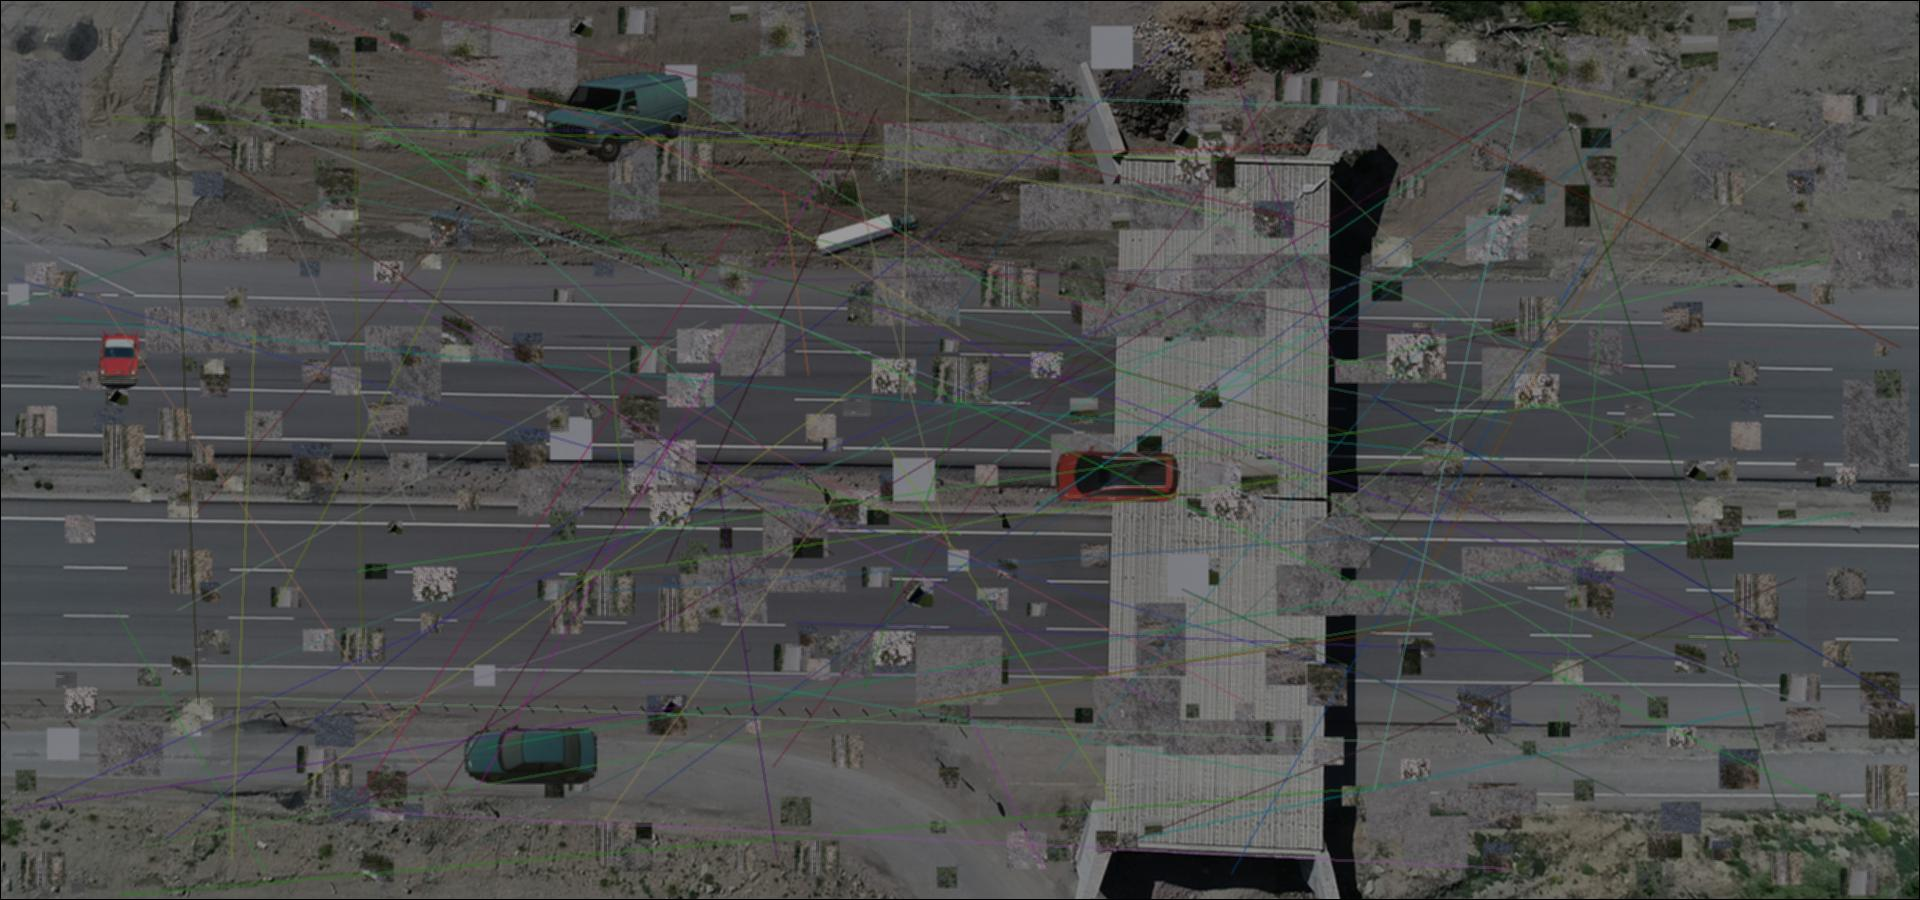arac: (542, 67, 688, 164), (1054, 443, 1184, 508), (463, 725, 604, 784), (812, 209, 920, 256), (98, 331, 142, 389)
